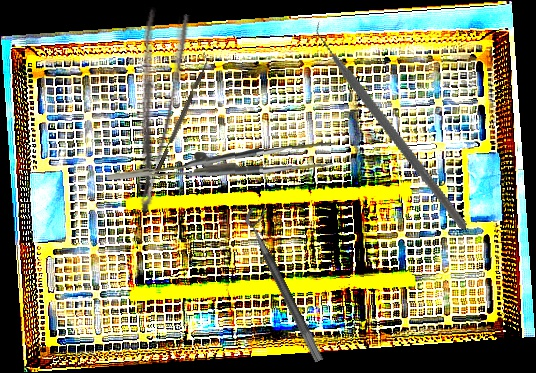Chopper: (267, 12, 520, 230), (148, 52, 214, 175)
Dressing Forceps: (107, 6, 194, 215)
Fixation Ring: (241, 203, 337, 364)
Tissue Forceps: (107, 135, 334, 188)
